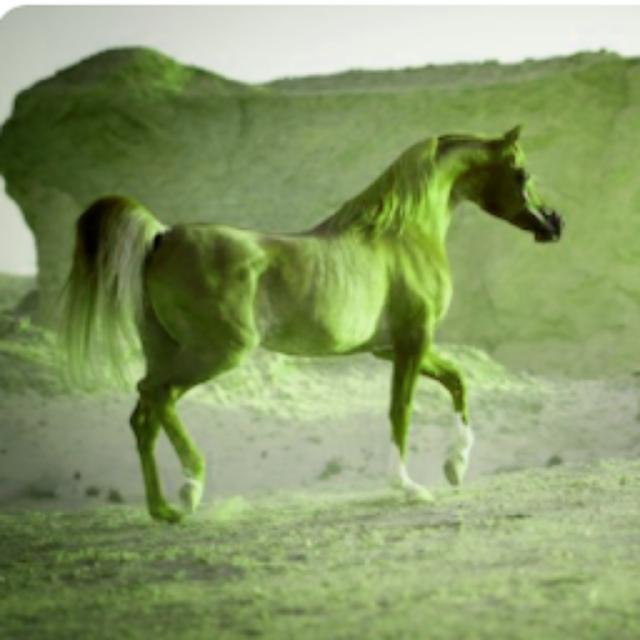Horse: (50, 117, 568, 525)
